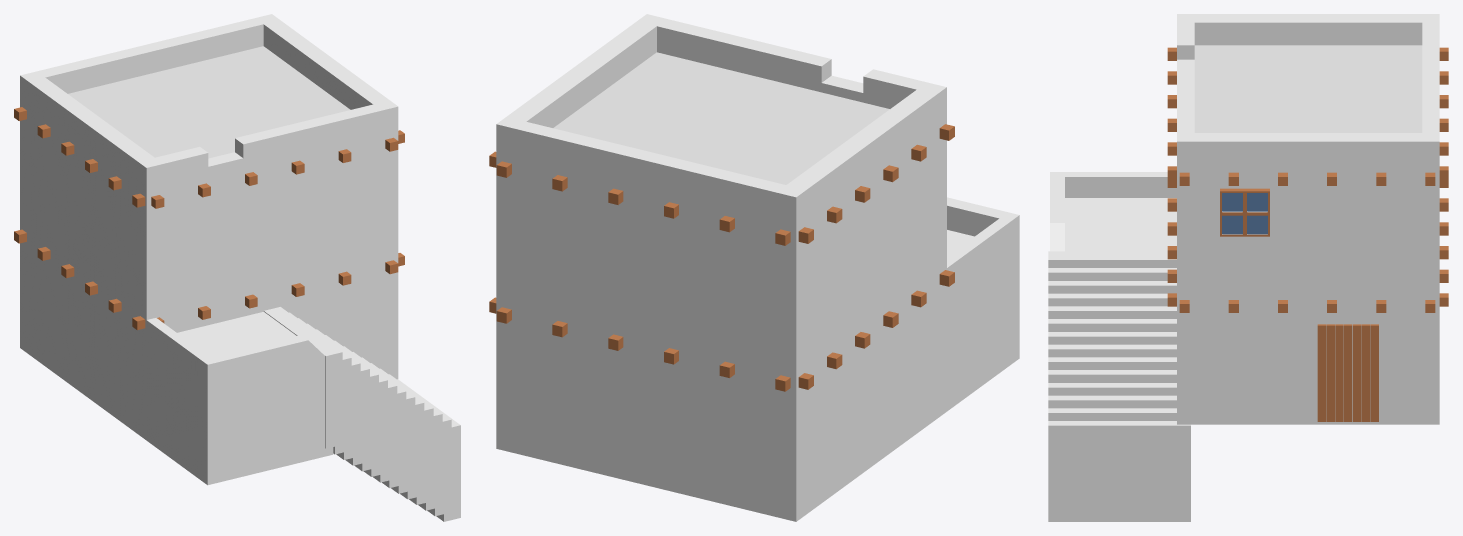
Rendered from house_with_stairs.fbx.
The picture shows the model from 3 angles, left to right: view 1: azimuth 30°, elevation 25°; view 2: azimuth 150°, elevation 25°; view 3: azimuth 270°, elevation 25°; orthographic projection. The views are drawn at different scales.
Parts seen in each view (by area): view 1: house_with_stairs; view 2: house_with_stairs; view 3: house_with_stairs.
Boxes of the visible parts, x1,y1,x2,y2 form: house_with_stairs: (14,14,460,521); house_with_stairs: (489,14,1019,521); house_with_stairs: (1048,14,1448,521).
Size of the model in its own units: 592 by 772 by 738.
Materials: 1 (1 with a texture image).
